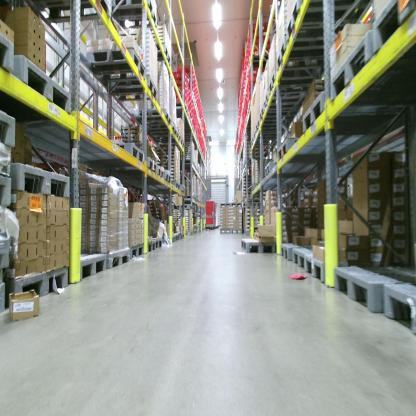pallet: (1, 102, 191, 274), (327, 26, 415, 120), (299, 89, 416, 137), (332, 262, 411, 325), (11, 47, 73, 117), (276, 34, 349, 74), (286, 0, 356, 40), (8, 266, 70, 308), (373, 1, 415, 56), (15, 160, 71, 200), (379, 279, 416, 337), (86, 47, 147, 82), (37, 0, 114, 24), (276, 137, 339, 165), (269, 63, 320, 95), (108, 73, 160, 102), (307, 254, 356, 284), (263, 158, 321, 179), (74, 251, 109, 285), (112, 0, 157, 25), (291, 246, 326, 278), (265, 85, 309, 107), (115, 142, 146, 168), (257, 102, 307, 118), (102, 245, 131, 270), (0, 29, 16, 73), (279, 238, 308, 262), (137, 108, 172, 126), (2, 106, 17, 148), (239, 238, 276, 255), (0, 170, 16, 207), (250, 132, 281, 149), (151, 40, 172, 64), (145, 121, 178, 136), (146, 129, 181, 143), (252, 126, 290, 138), (247, 53, 273, 70), (253, 118, 288, 128), (130, 244, 146, 260), (147, 156, 158, 175), (147, 239, 158, 257), (1, 280, 7, 313), (180, 195, 196, 207), (154, 235, 164, 252), (179, 158, 194, 167), (156, 166, 165, 180), (173, 139, 185, 149), (163, 172, 172, 185), (163, 233, 171, 247), (231, 200, 243, 209), (220, 201, 230, 210), (219, 228, 231, 235), (231, 228, 243, 235), (178, 231, 185, 242), (171, 182, 180, 190), (171, 232, 176, 246), (176, 230, 180, 241), (181, 186, 186, 193)
